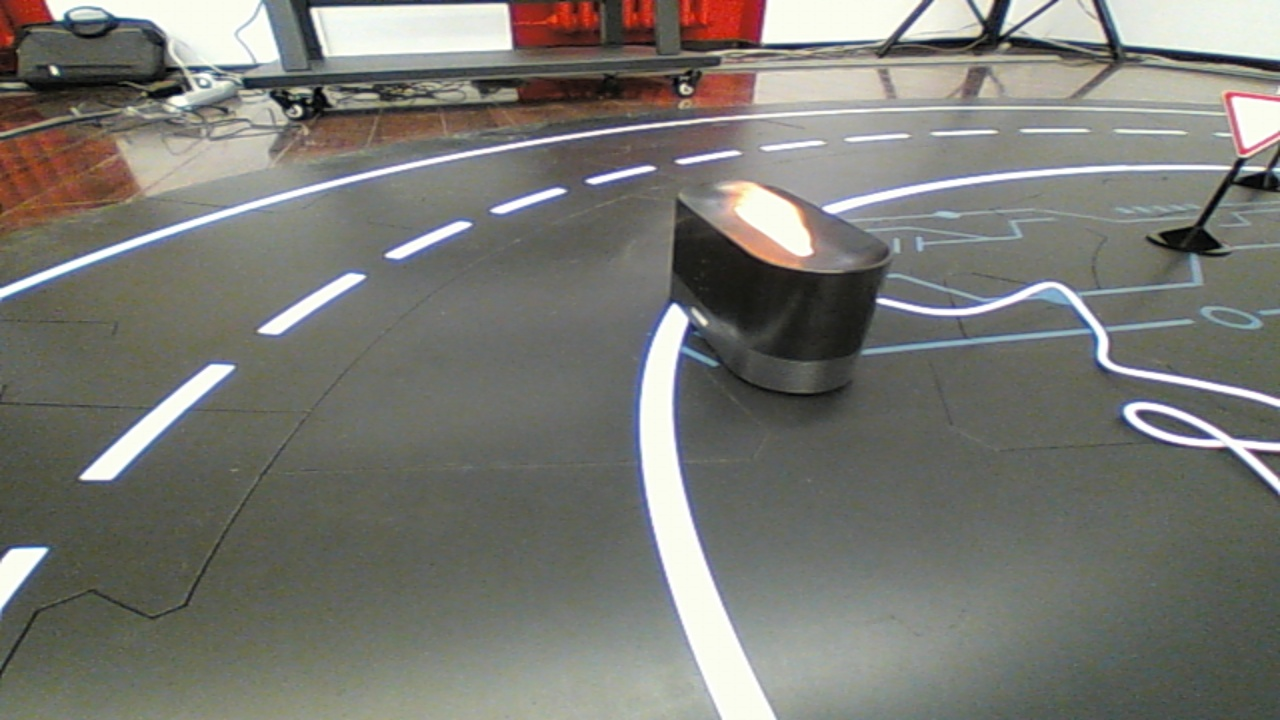Movement prohibition: (655, 165, 919, 415)
